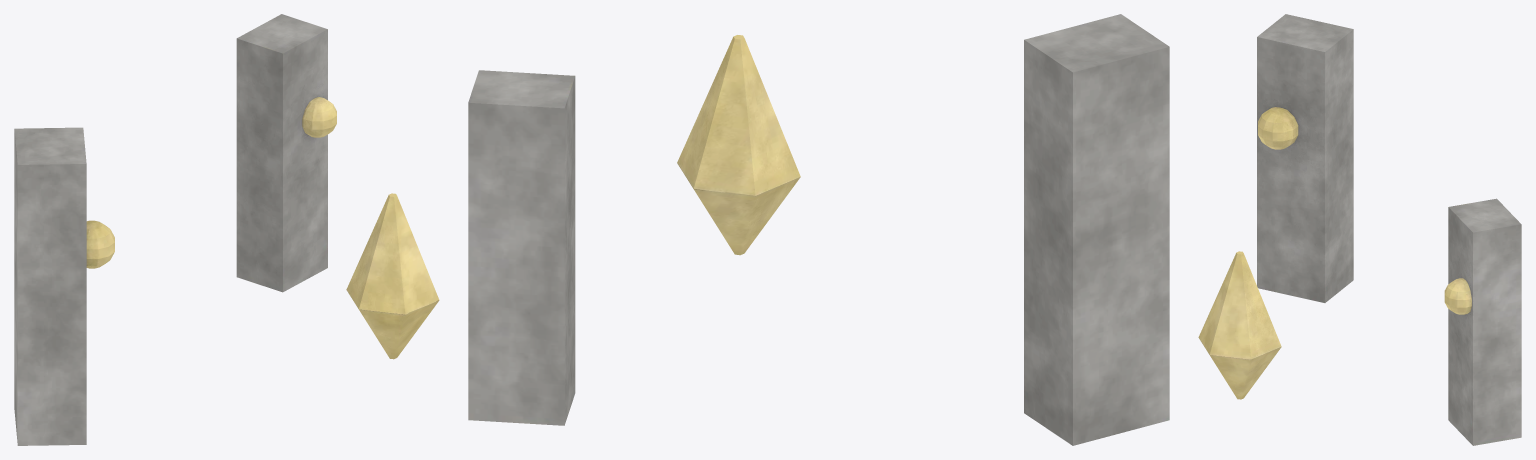
Rendered from res_all_2.glb.
The picture shows the model from 3 angles, left to right: view 1: azimuth 30°, elevation 25°; view 2: azimuth 150°, elevation 25°; view 3: azimuth 270°, elevation 25°; orthographic projection. The views are drawn at different scales.
Parts seen in each view (by area): view 1: dilek; view 2: dilek; view 3: dilek.
Boxes of the visible parts, x1,y1,x2,y2 form: dilek: (14,14,439,445); dilek: (468,14,1169,445); dilek: (1198,14,1521,445).
Size of the model in its own units: 0.5566 by 0.36 by 0.4198.
Materials: 1 (1 with a texture image).
